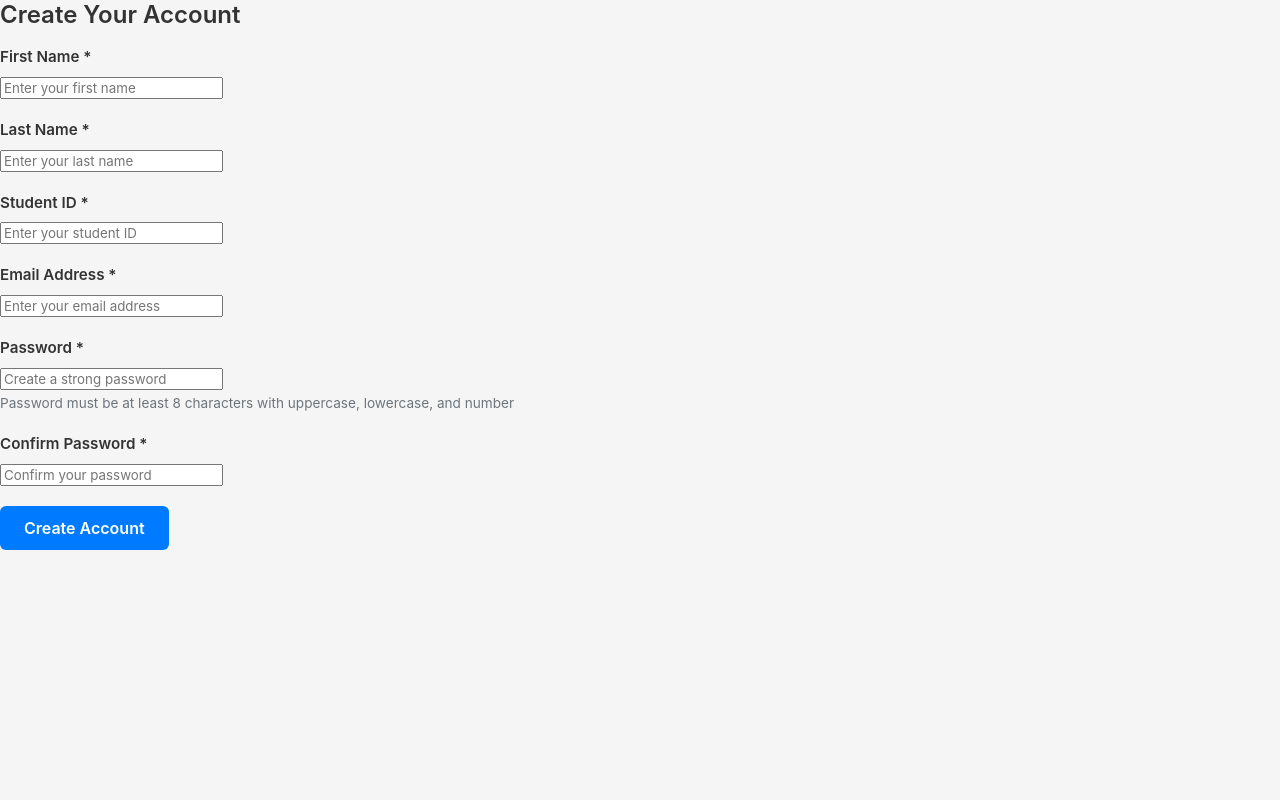
it: RegisterForm › displays validation error for invalid email format
Type "invalid-email" into the field labelled "Email Address *" at (112,306), box [0,295,223,317]
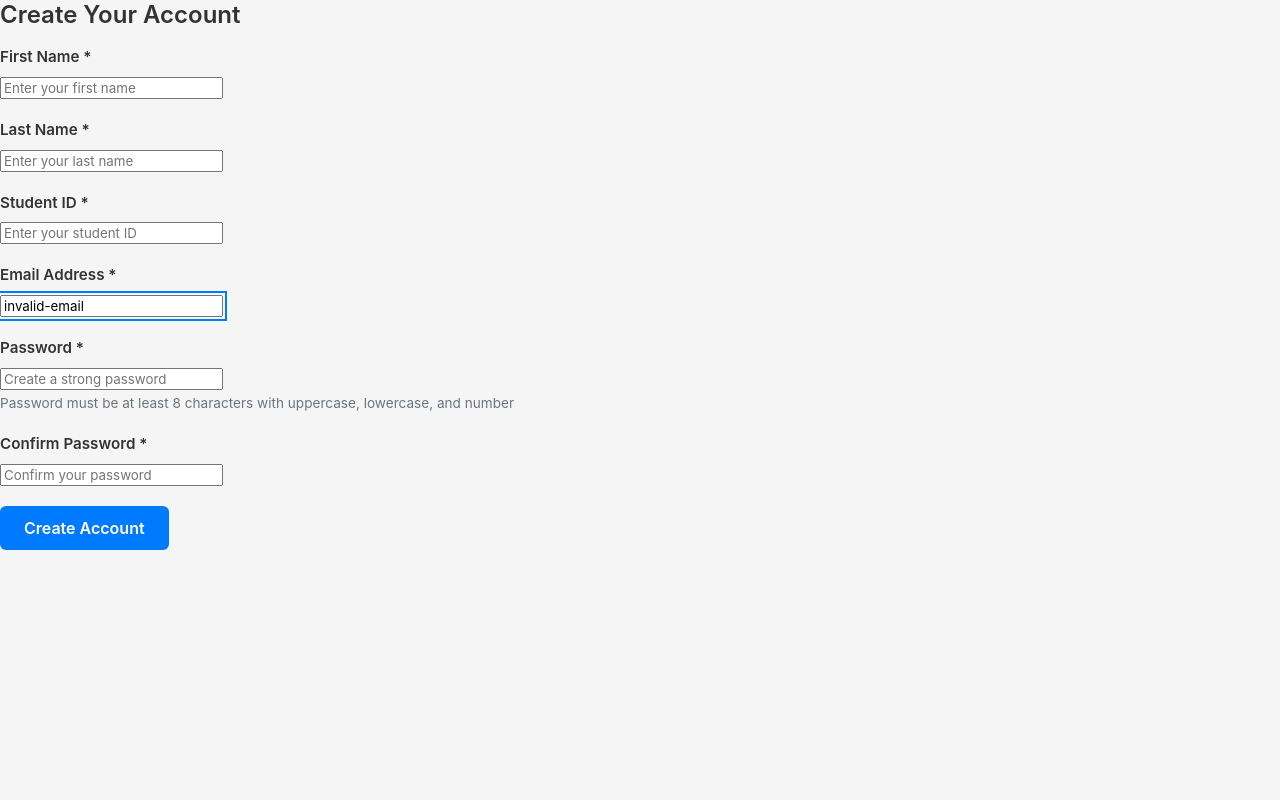
Click the button "Create Account" at (84,528), box [0,506,169,550]
(page scrolled)
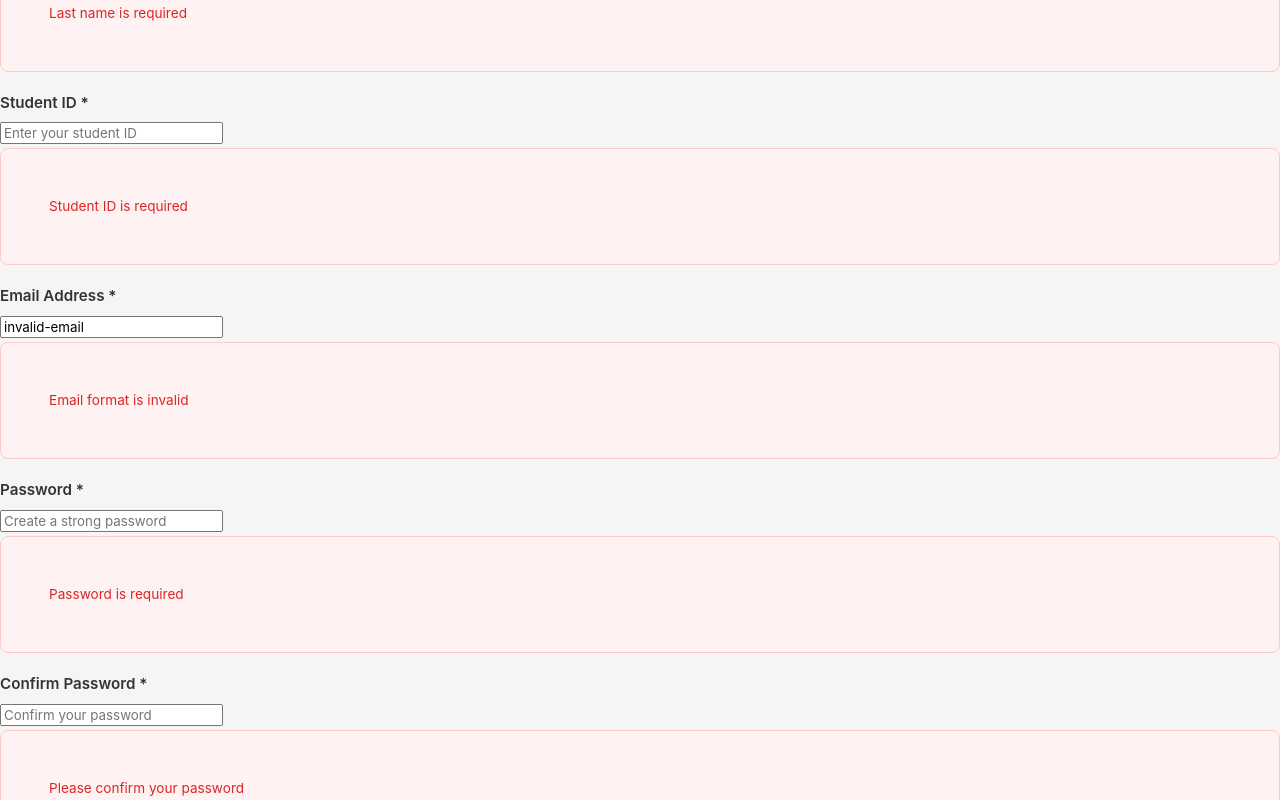
Expected: the text "Email format is invalid" is shown, [0,342,1279,459]
